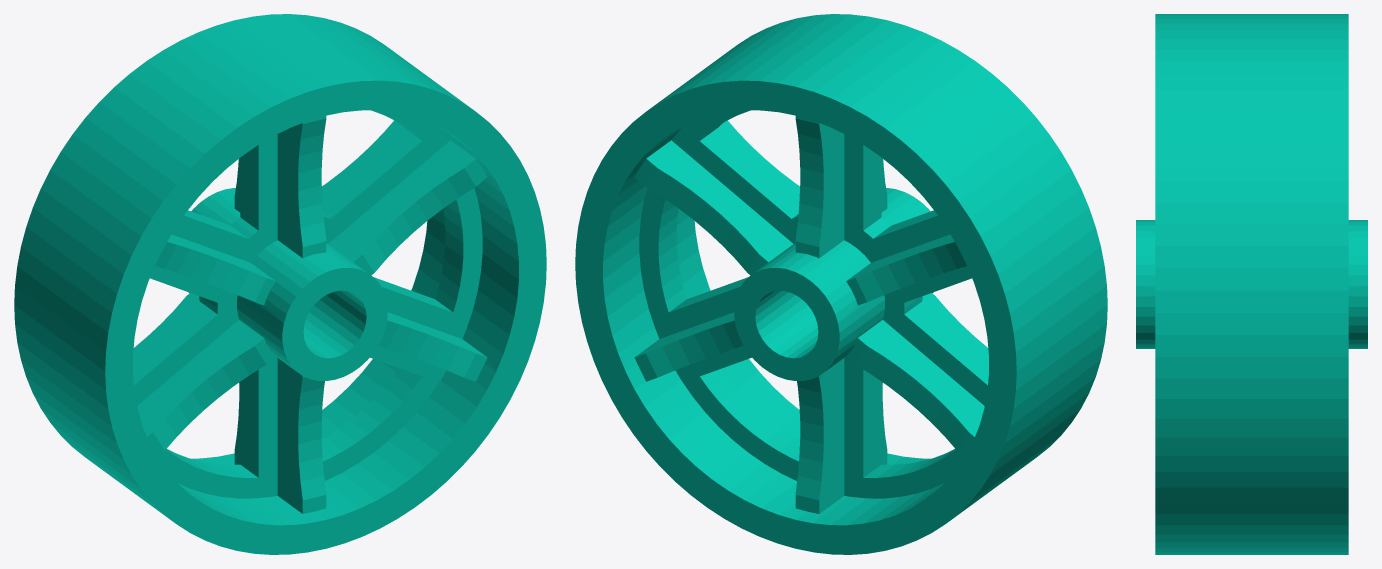
The model's file is caster_wheel.glb.
The picture shows the model from 3 angles, left to right: view 1: azimuth 30°, elevation 25°; view 2: azimuth 150°, elevation 25°; view 3: azimuth 270°, elevation 25°; orthographic projection. The views are drawn at different scales.
Parts seen in each view (by area): view 1: Node1; view 2: Node1; view 3: Node1.
Boxes of the visible parts, left/top/right/bottom form: Node1: left=14, top=14, right=546, bottom=554; Node1: left=575, top=14, right=1107, bottom=554; Node1: left=1136, top=14, right=1367, bottom=554.
Size of the model in its own units: 178 by 178 by 76.2.
